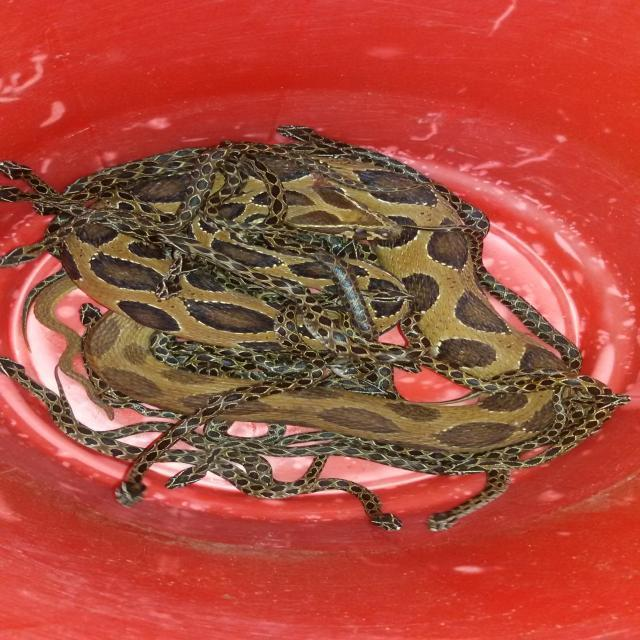Snake: (1, 124, 630, 532)
